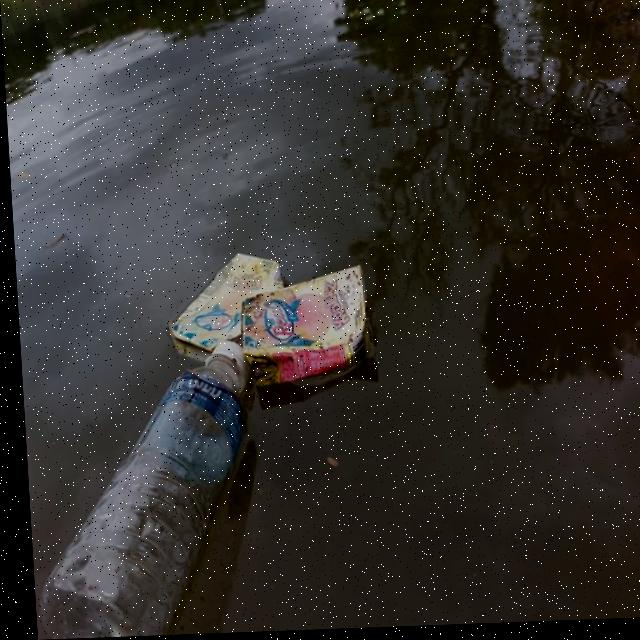paper: (233, 242, 374, 412), (156, 240, 284, 364)
waterbottle: (16, 334, 260, 640)
